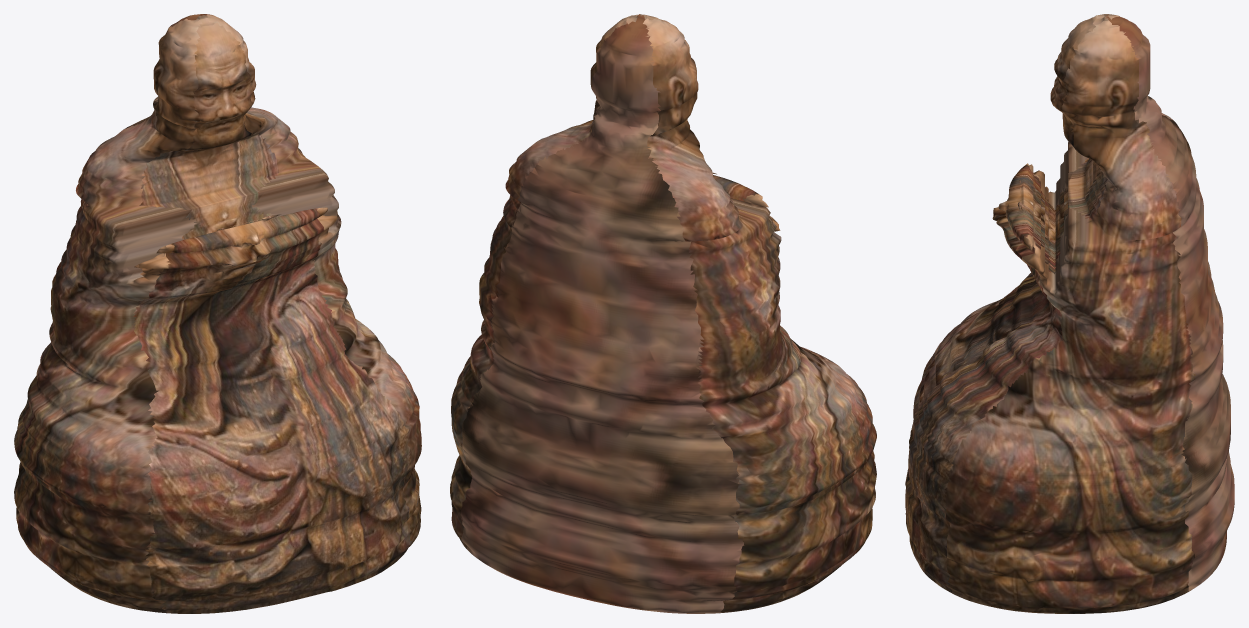
Rendered from huike.glb.
3 renders of one model, left to right at view 1: azimuth 30°, elevation 25°; view 2: azimuth 150°, elevation 25°; view 3: azimuth 270°, elevation 25°, orthographic. The views are drawn at different scales.
Visible parts, largest first — view 1: huike; view 2: huike; view 3: huike.
Part boxes in pixels (left/top/right/bottom): huike: left=14, top=14, right=421, bottom=613; huike: left=450, top=14, right=876, bottom=613; huike: left=905, top=14, right=1234, bottom=613.
Size of the model in its own units: 0.7296 by 1.01 by 0.5805.
Materials: 1 (1 with a texture image).
